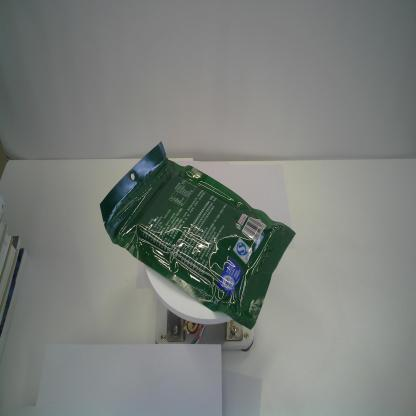Dried Food: (99, 140, 297, 330)
